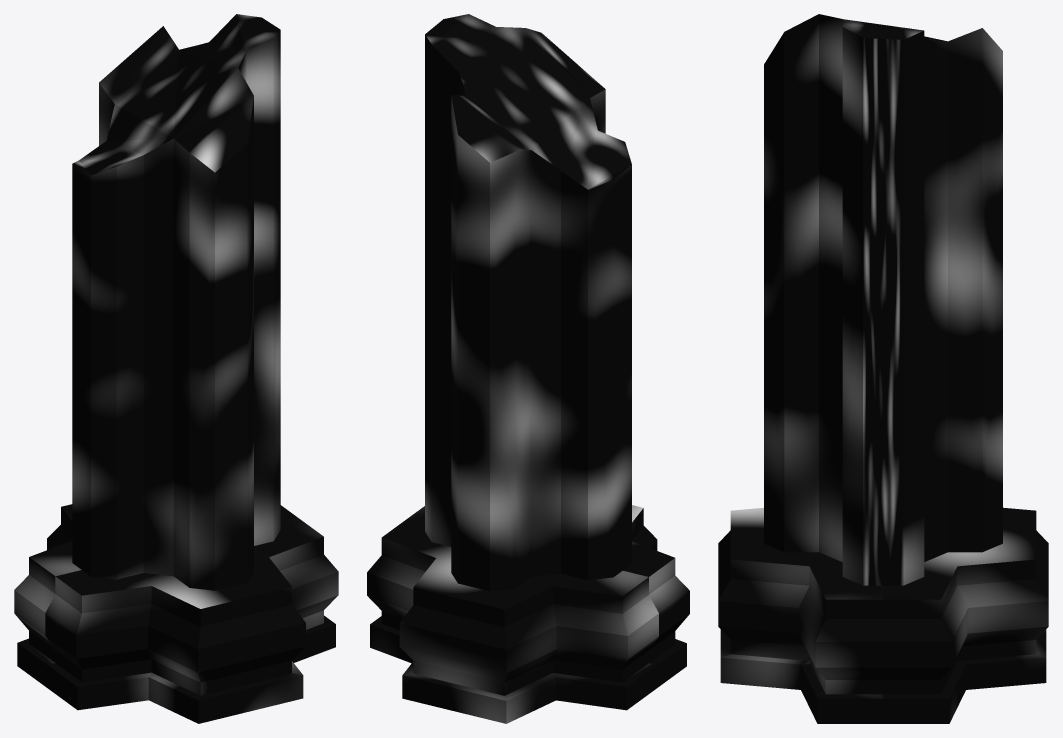
The model's file is BrokenPillarBottom.fbx.
3 views of the same model, side by side, from view 1: azimuth 30°, elevation 25°; view 2: azimuth 150°, elevation 25°; view 3: azimuth 270°, elevation 25° (orthographic). The views are drawn at different scales.
Parts seen in each view (by area): view 1: BrokenPillarBottom; view 2: BrokenPillarBottom; view 3: BrokenPillarBottom.
Boxes of the visible parts, left/top/right/bottom form: BrokenPillarBottom: left=14, top=14, right=338, bottom=723; BrokenPillarBottom: left=367, top=14, right=689, bottom=723; BrokenPillarBottom: left=718, top=14, right=1048, bottom=723.
Size of the model in its own units: 1.14 by 2.54 by 1.14.
